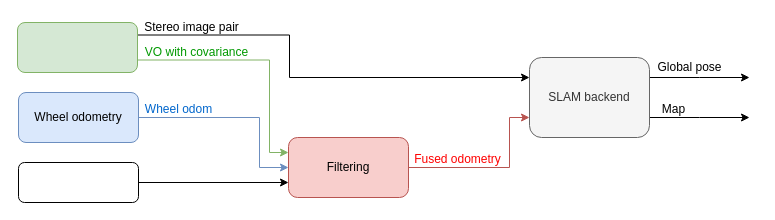
Image size: 775x220. Some labels were removed from this diagram. The centre of each missing label's shape, as x and y in pixels:
IMU: the point at 78,182
Tracking camera: the point at 77,47
